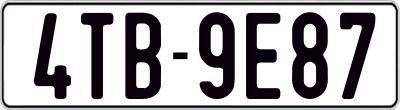4: (32, 11, 71, 101)
7: (338, 12, 376, 103)
8: (289, 11, 328, 100)
9: (196, 9, 236, 101)
B: (124, 13, 160, 102)
E: (246, 12, 280, 102)
T: (79, 11, 116, 97)
